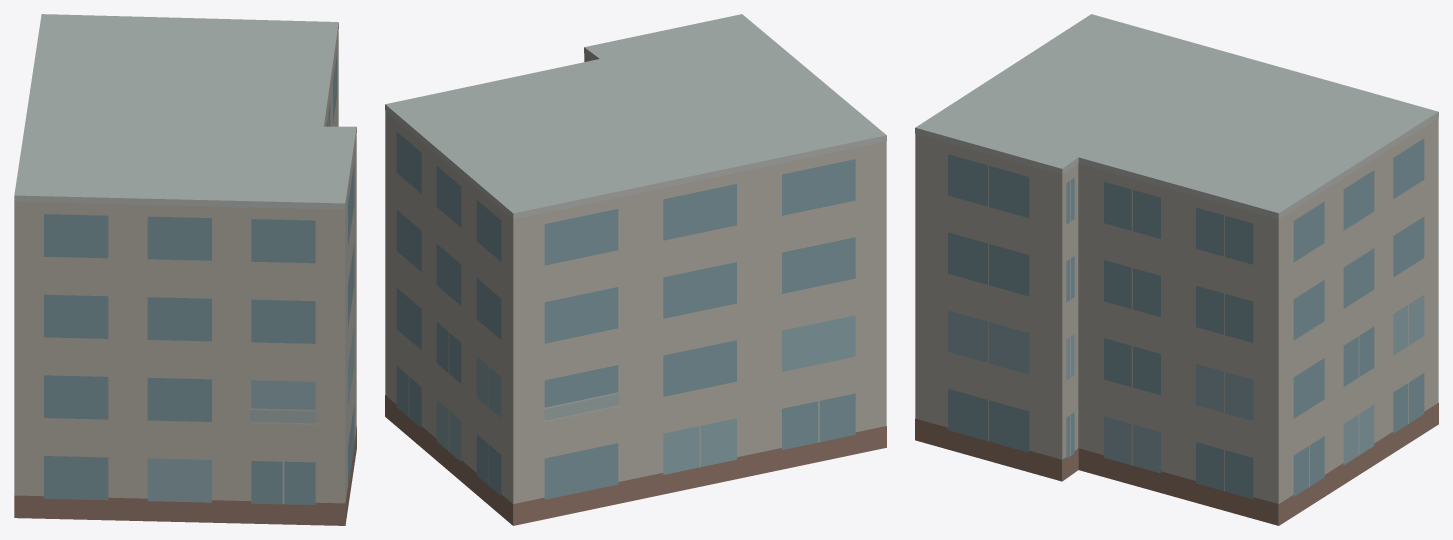
File: survey-upis-32479756.glb
3 views of the same model, side by side, from view 1: azimuth 30°, elevation 25°; view 2: azimuth 150°, elevation 25°; view 3: azimuth 270°, elevation 25° (orthographic). The views are drawn at different scales.
Parts seen in each view (by area): view 1: survey-upis-32479756.tmp; view 2: survey-upis-32479756.tmp; view 3: survey-upis-32479756.tmp.
Boxes of the visible parts, x1,y1,x2,y2 form: survey-upis-32479756.tmp: (14, 14, 356, 525); survey-upis-32479756.tmp: (385, 14, 886, 525); survey-upis-32479756.tmp: (915, 14, 1438, 525).
Bounding box in the file's own units: 17.19 × 12.57 × 19.09.
